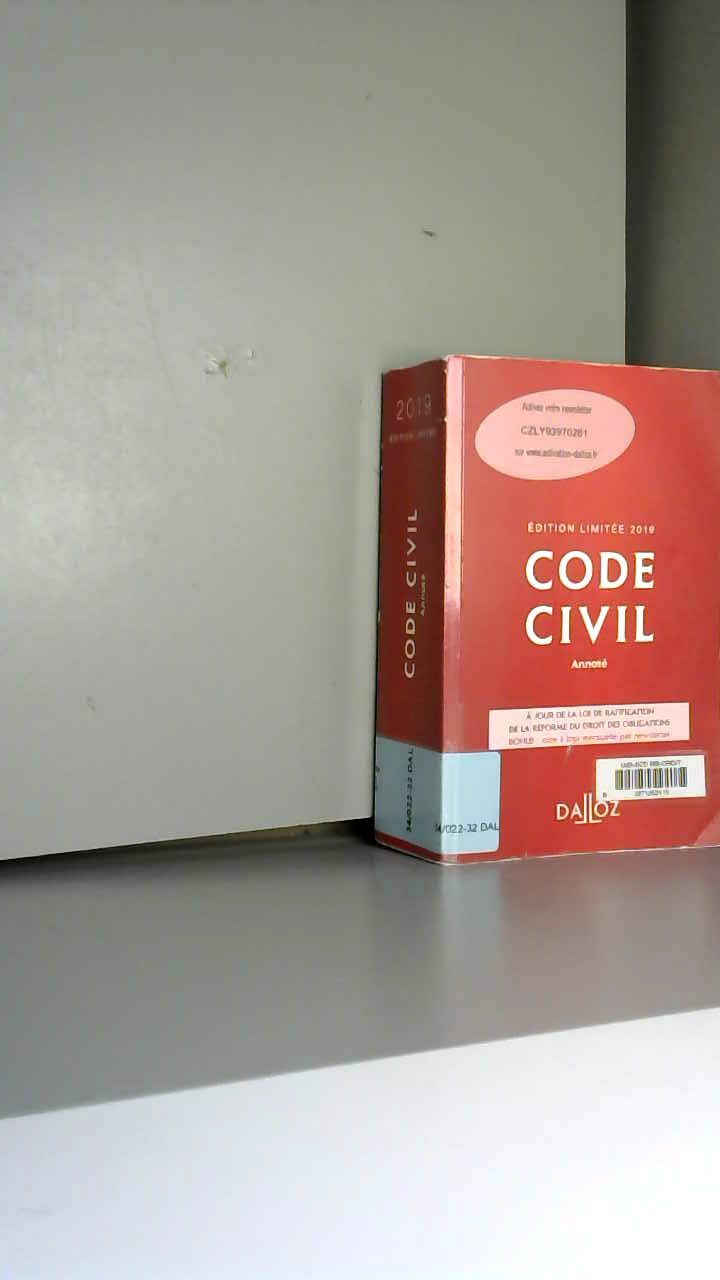book: (340, 330, 717, 943)
